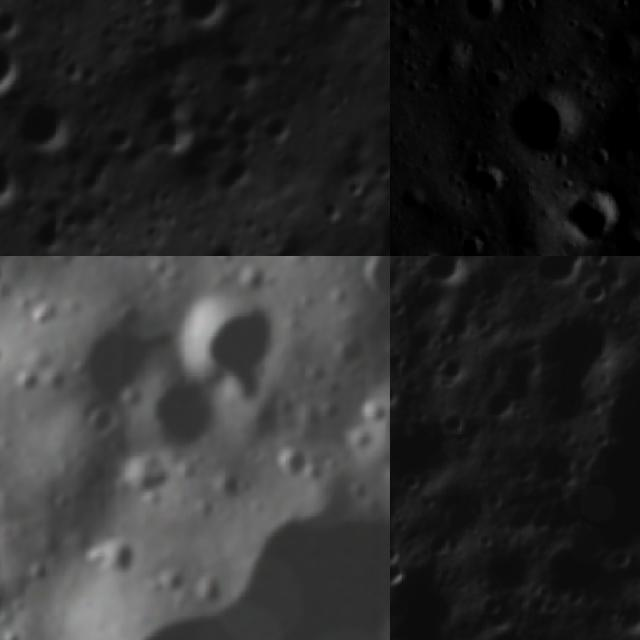crater: (516, 292, 640, 435), (159, 279, 286, 400), (47, 306, 162, 412), (120, 369, 232, 466), (4, 88, 87, 170), (502, 89, 583, 164), (339, 375, 390, 492), (549, 182, 631, 245), (157, 0, 251, 45), (526, 431, 588, 494), (520, 256, 599, 298), (0, 137, 37, 220), (364, 69, 390, 187), (0, 29, 36, 108), (412, 256, 486, 294), (268, 442, 312, 499), (257, 103, 306, 154), (462, 148, 506, 204), (472, 610, 551, 640), (91, 538, 143, 580), (349, 256, 390, 308), (390, 537, 426, 596), (360, 190, 390, 256), (185, 226, 251, 256), (456, 0, 513, 27), (0, 0, 31, 47), (237, 240, 306, 256), (607, 228, 640, 256), (395, 0, 433, 18)
